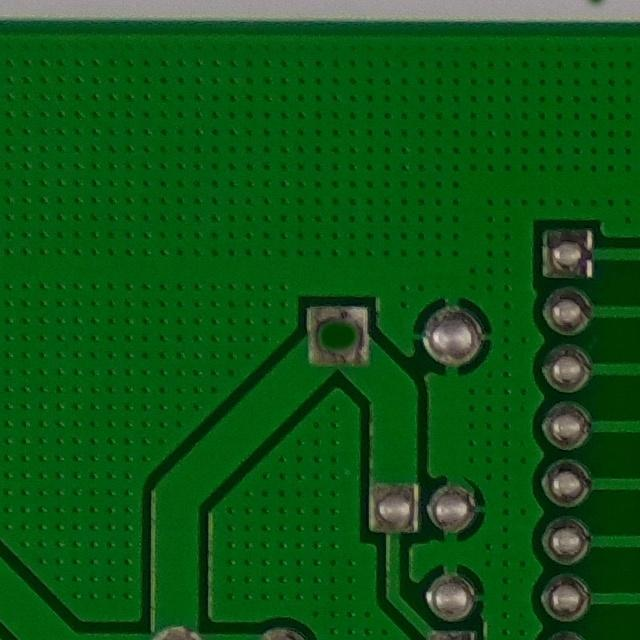missing_hole: (304, 296, 380, 362)
